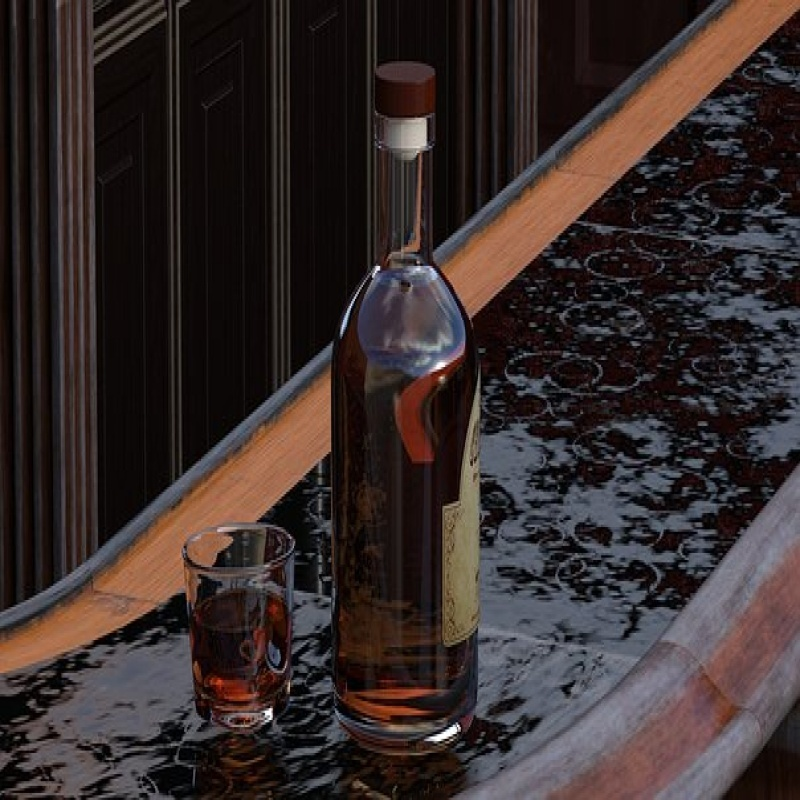whiskey: (180, 526, 295, 711)
